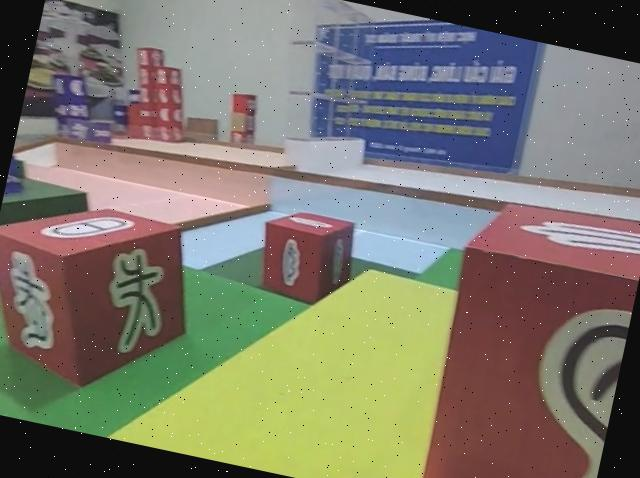R2 Fake: (409, 179, 640, 478), (0, 184, 209, 406)
R2 Real: (249, 200, 360, 312)
